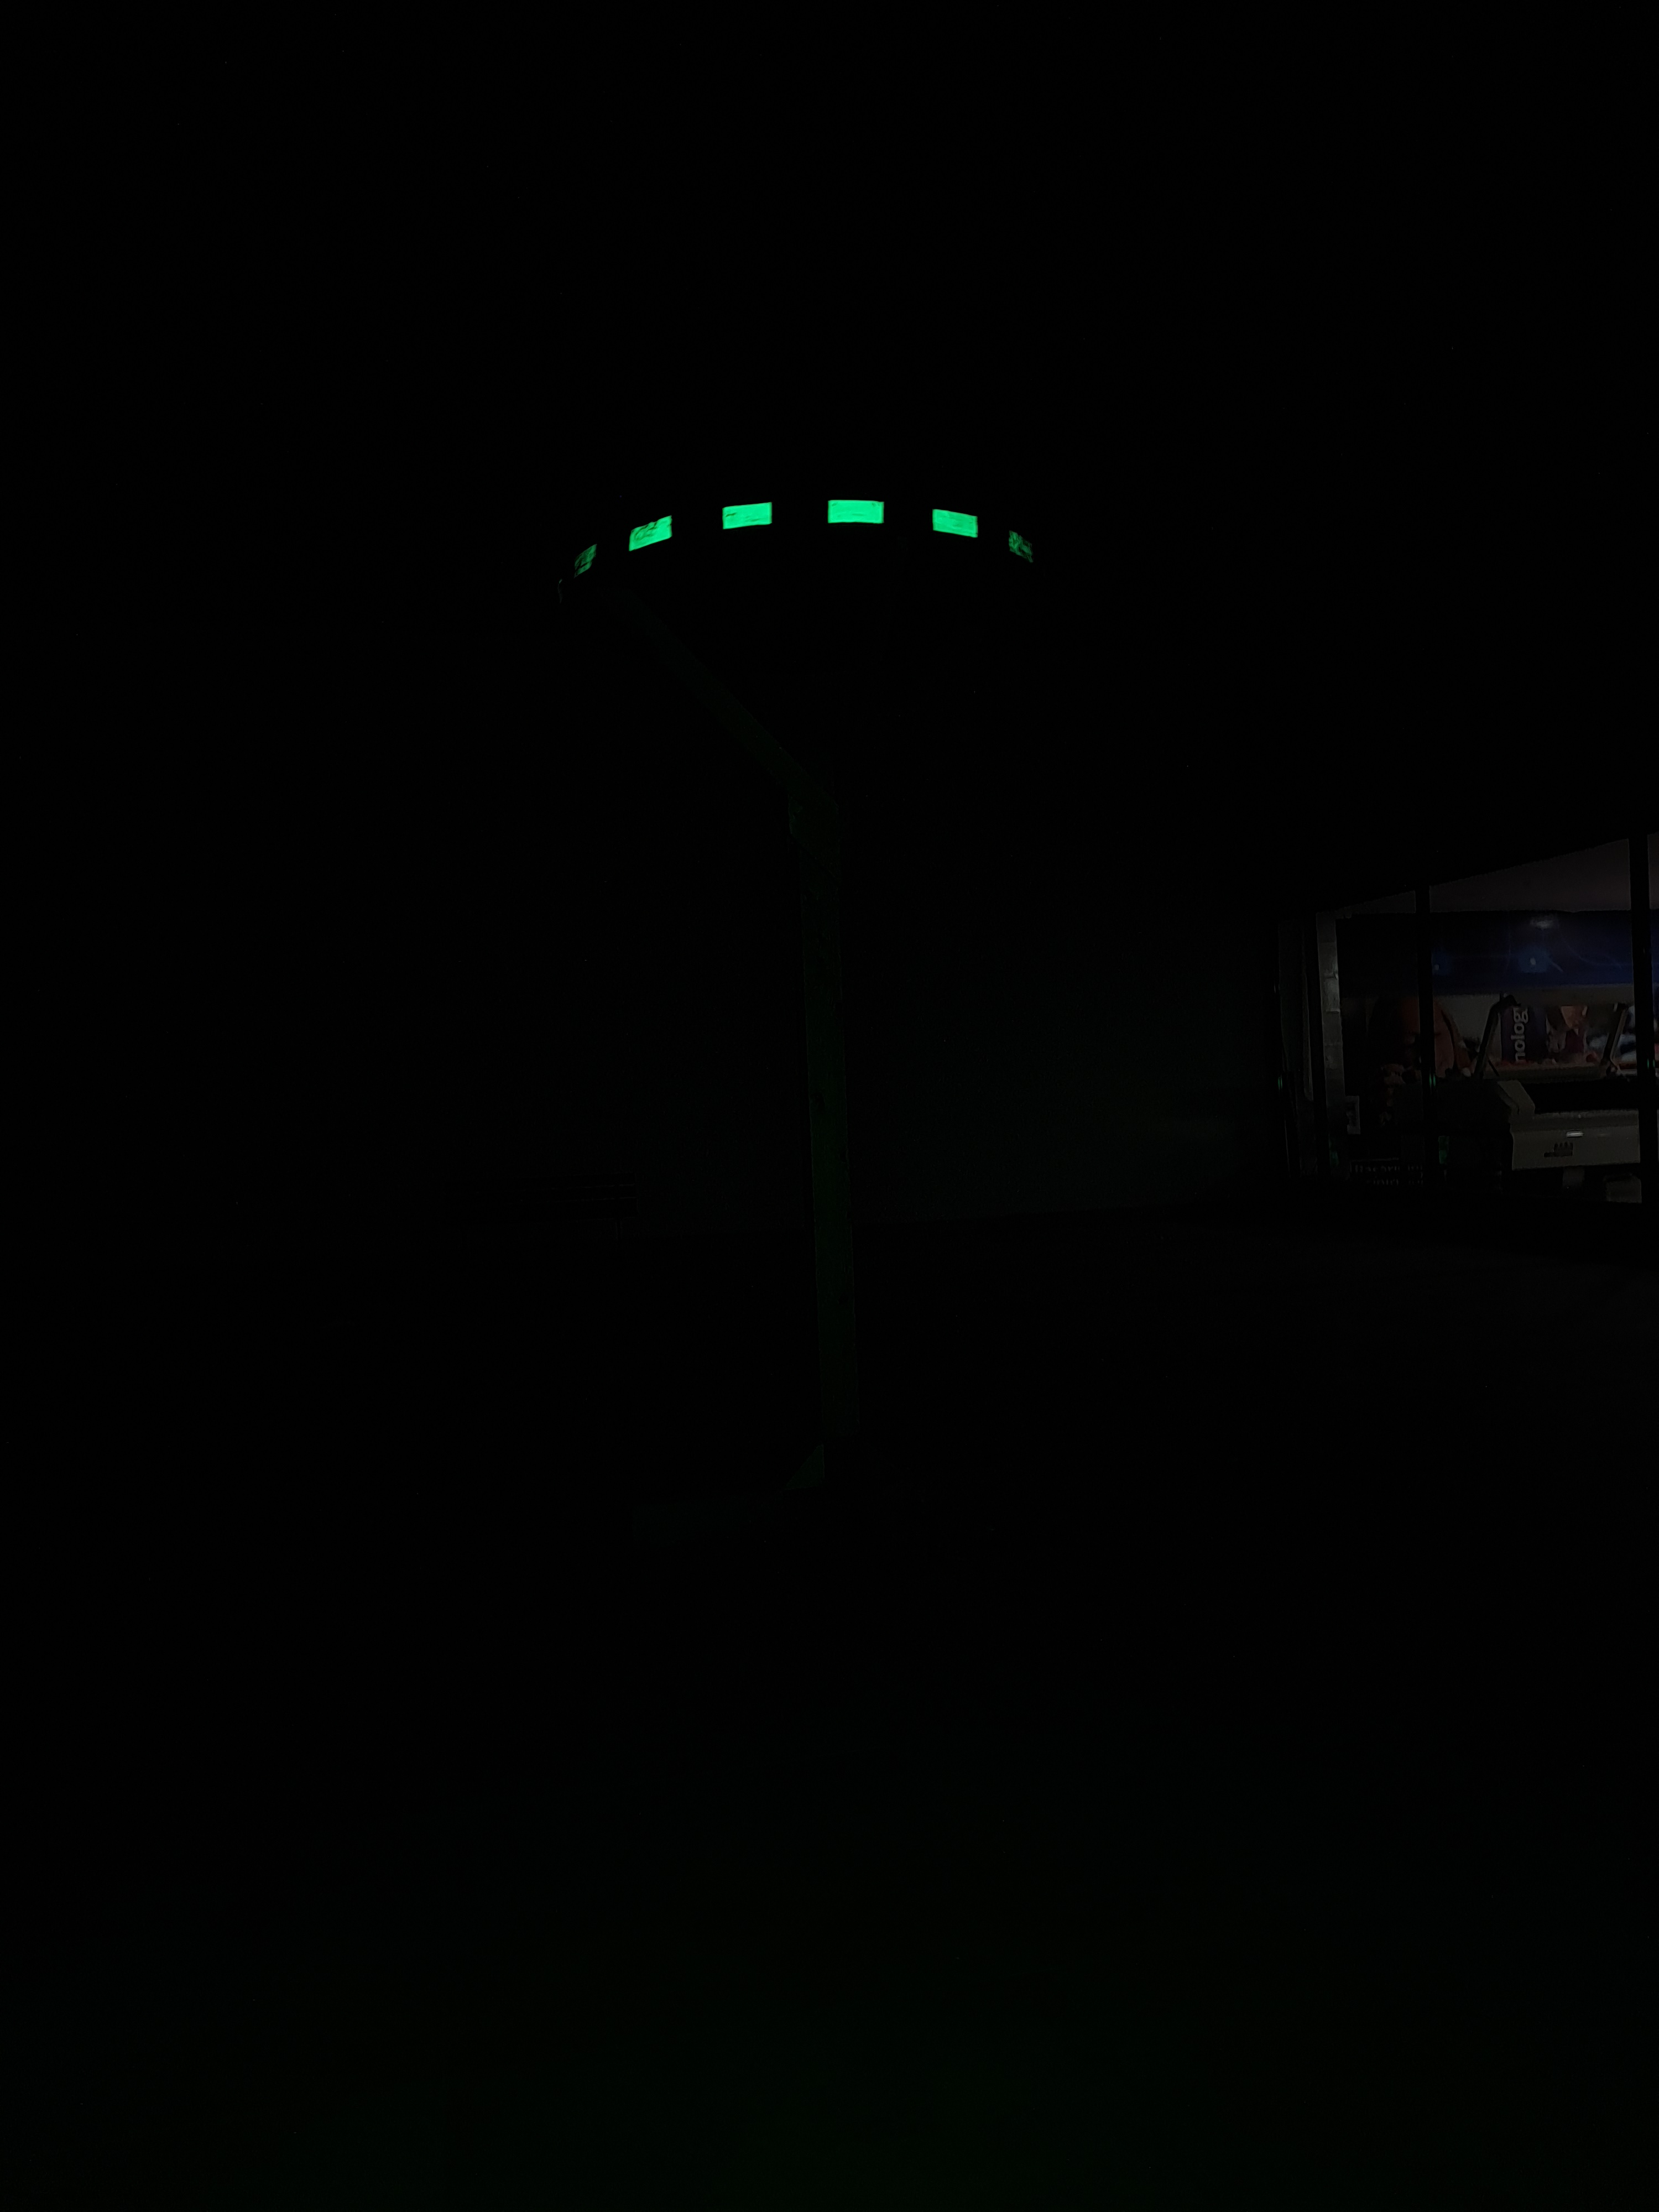hoop: (525, 470, 1053, 585)
